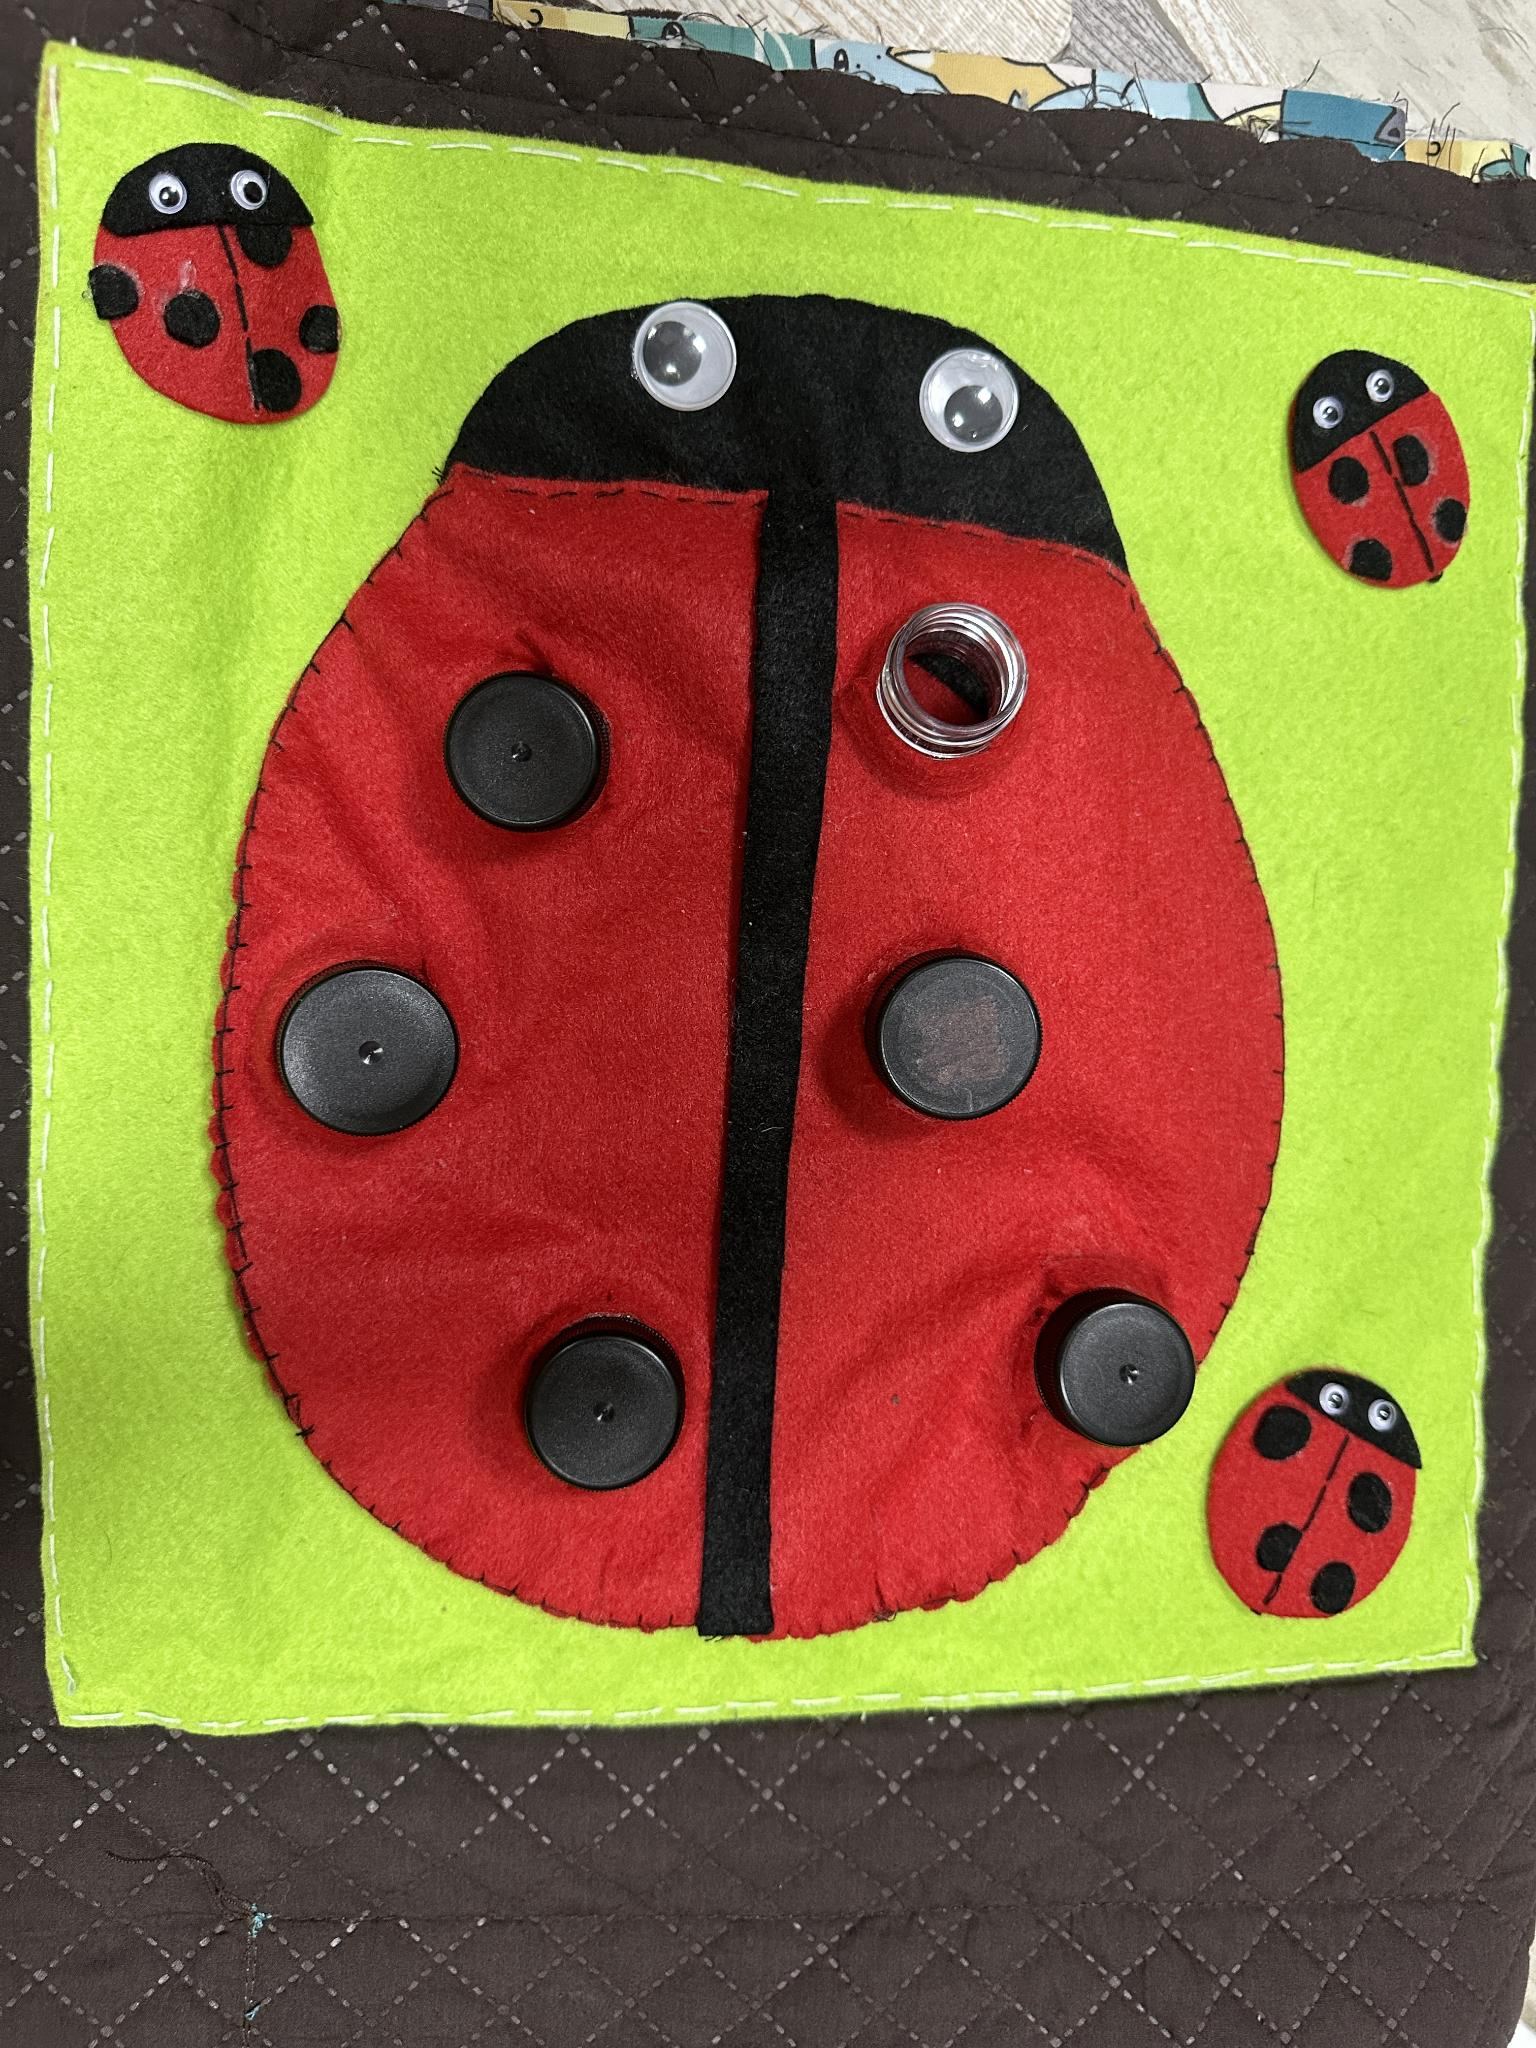cap_ok: (395, 639, 637, 856), (487, 1293, 705, 1508), (253, 961, 502, 1148), (855, 934, 1054, 1135), (1023, 1268, 1213, 1456)
